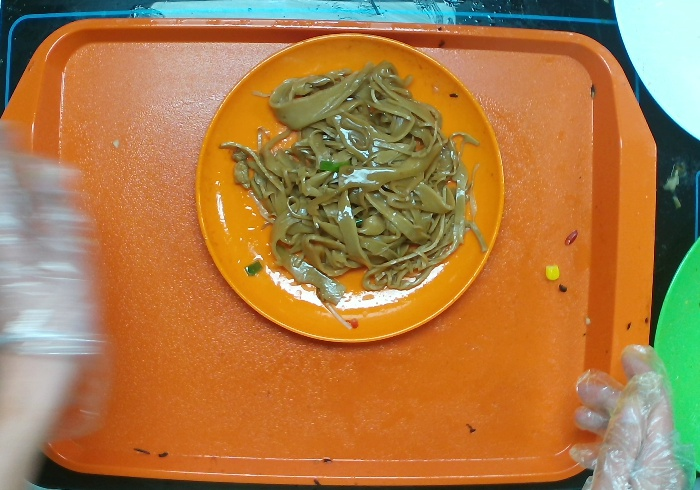HZYJPL-Ju_Huang_Yuan_Pan: (194, 32, 506, 343)
